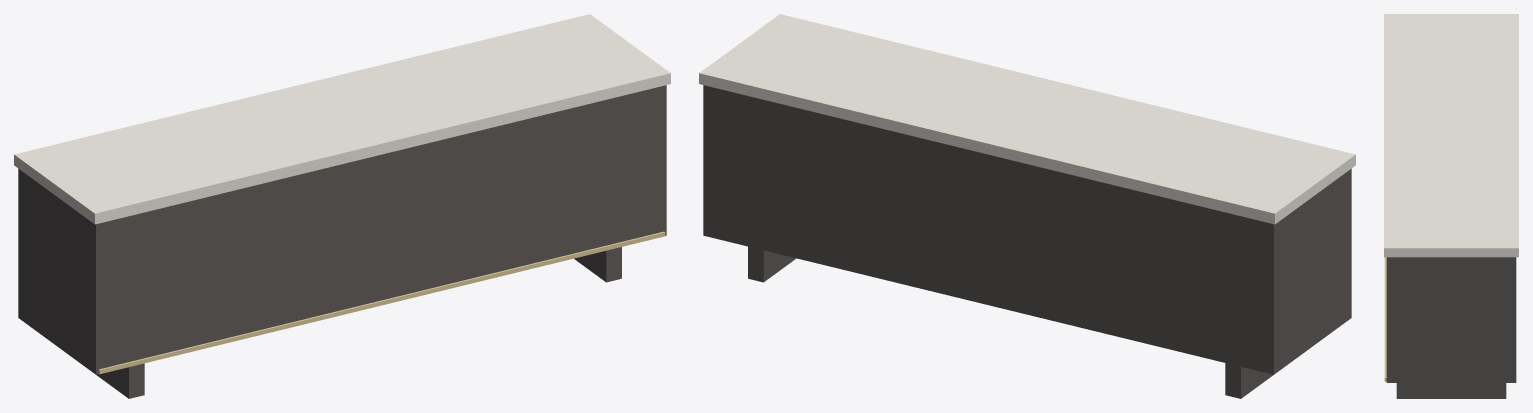
The model's file is maitama-fluted-credenza.glb.
The picture shows the model from 3 angles, left to right: view 1: azimuth 30°, elevation 25°; view 2: azimuth 150°, elevation 25°; view 3: azimuth 270°, elevation 25°; orthographic projection. The views are drawn at different scales.
Parts seen in each view (by area): view 1: ZebdecorMasterpiece; view 2: ZebdecorMasterpiece; view 3: ZebdecorMasterpiece.
Part boxes in pixels (x1,y1,x2,y2): ZebdecorMasterpiece: (14,14,670,398); ZebdecorMasterpiece: (699,14,1355,398); ZebdecorMasterpiece: (1384,14,1518,398).
Bounding box in the file's own units: 2.22 × 0.74 × 0.54.
